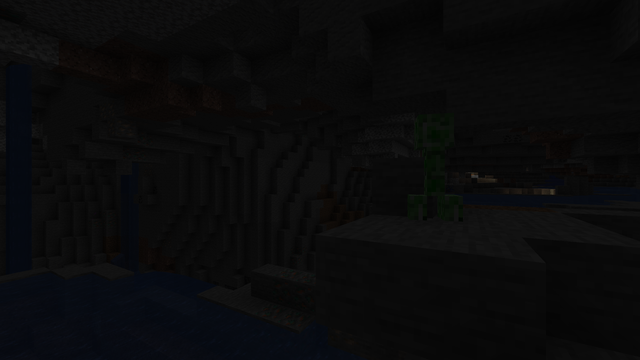creepers: (409, 105, 453, 221)
